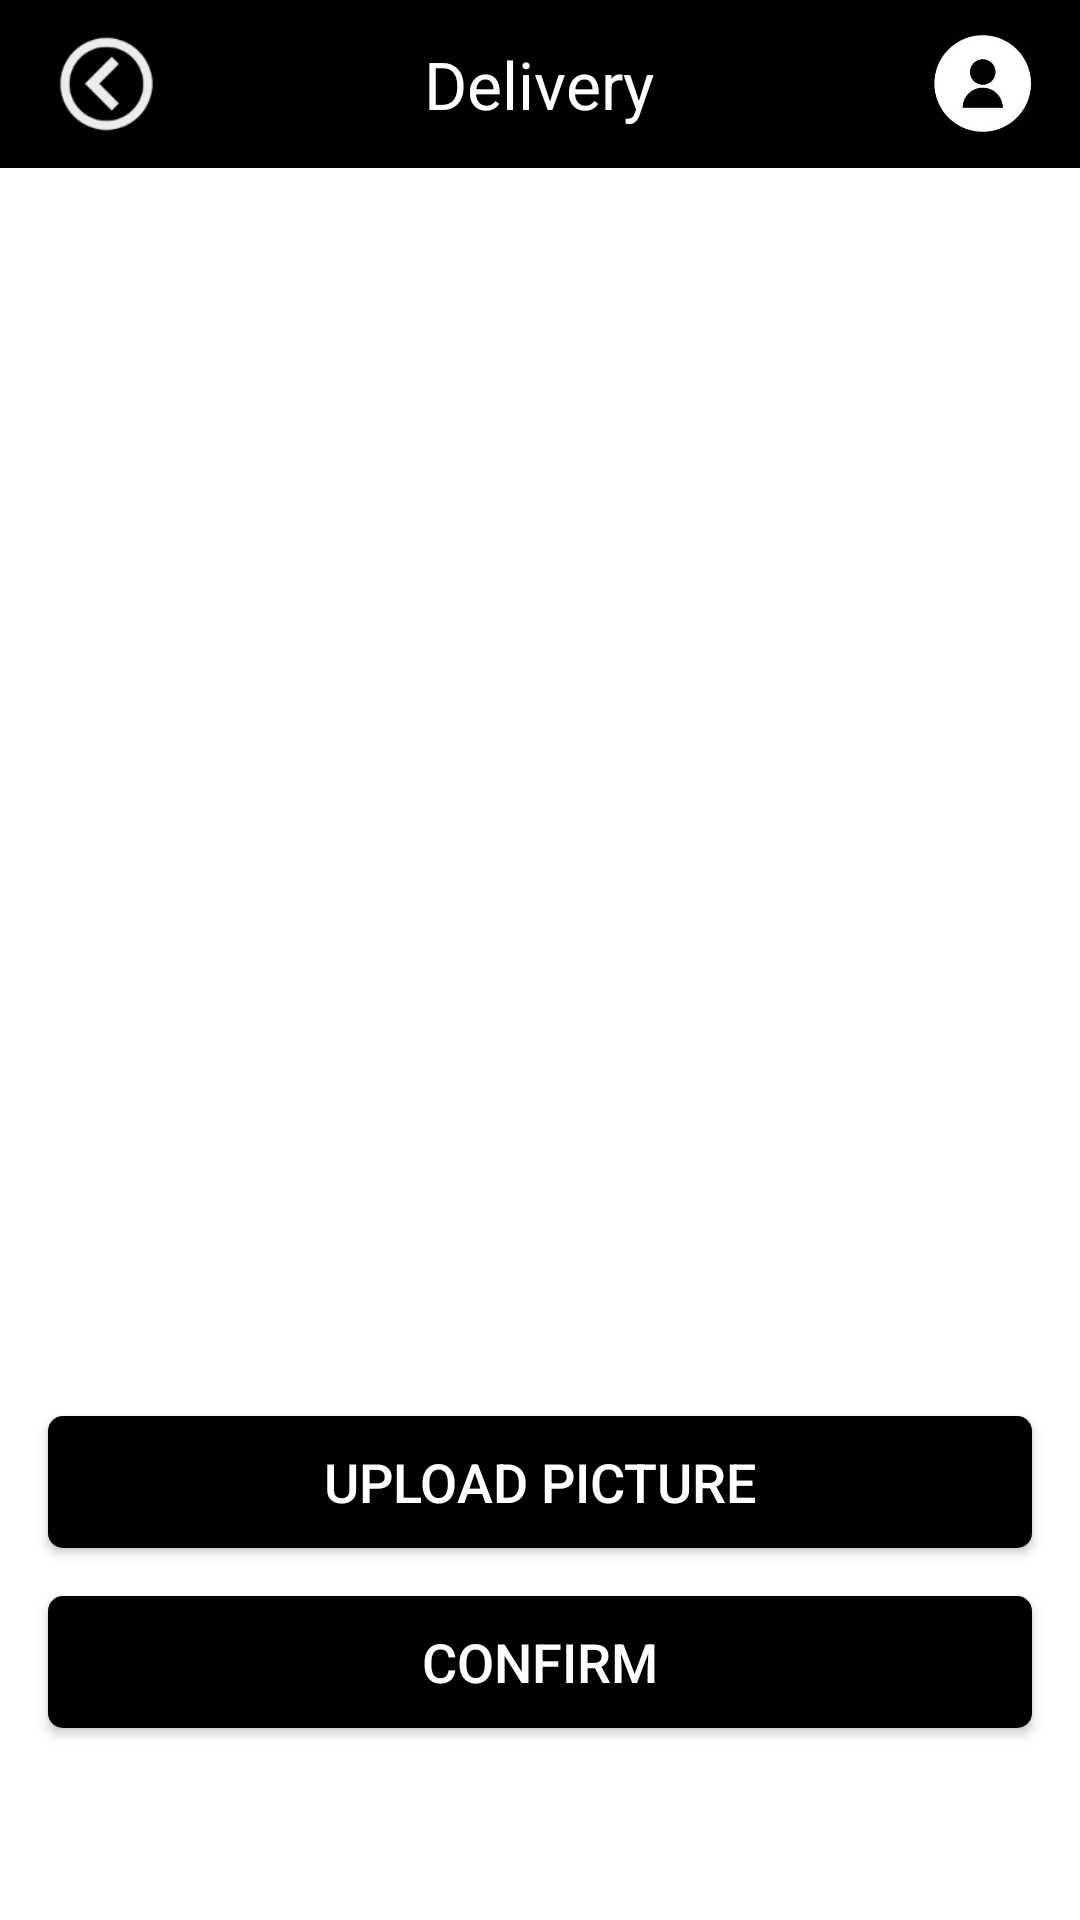

Icons on this 1080px×1920px Android screen, each with the point to tap as [x,y]:
account: [982,83]
back: [106,84]
